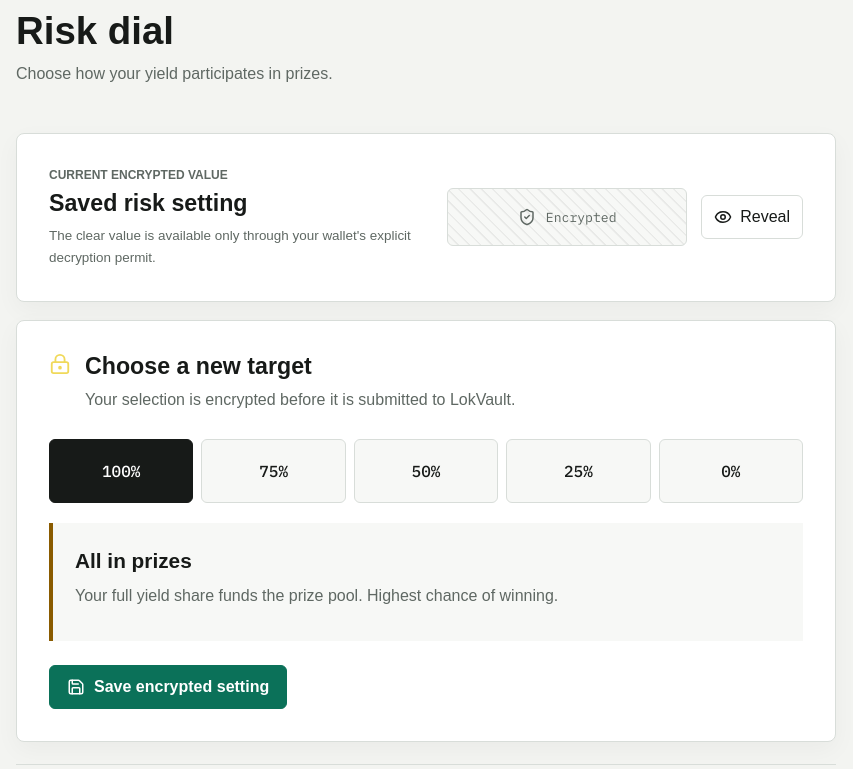
RiskPage › keeps the saved setting sealed separately from the editable target
Expected: the radio button labelled "100%" is checked, [49, 439, 193, 503]
Click the button with aria-label "reveal saved risk setting": (752, 218) [701, 196, 803, 240]
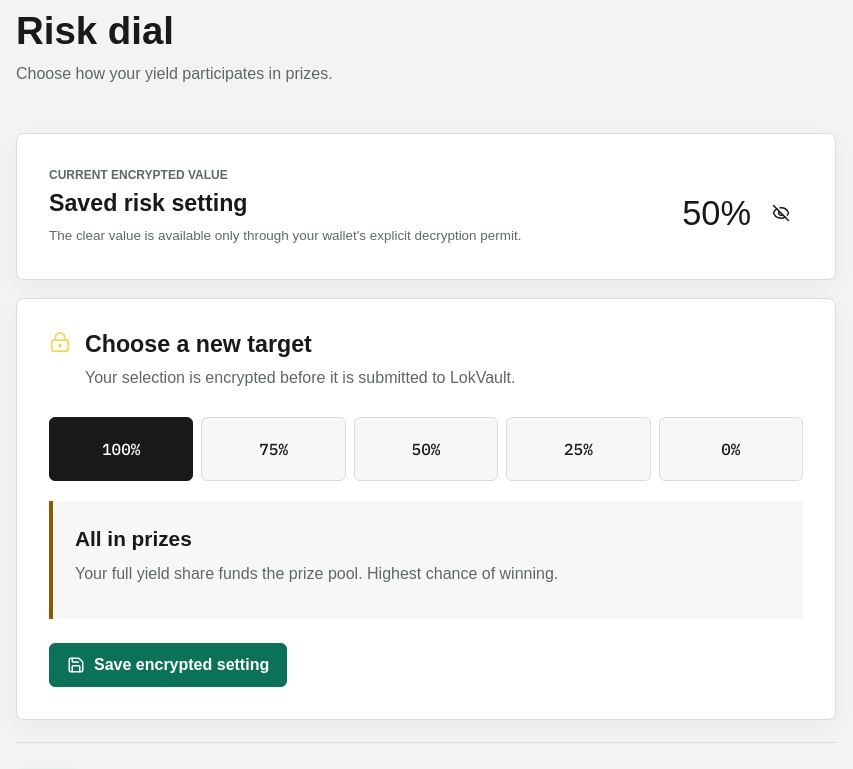
Expected: the radio button labelled "100%" is checked, [49, 417, 193, 481]
Now the text "50%" in the row of "Saved risk setting" is shown, box [682, 194, 751, 232]
